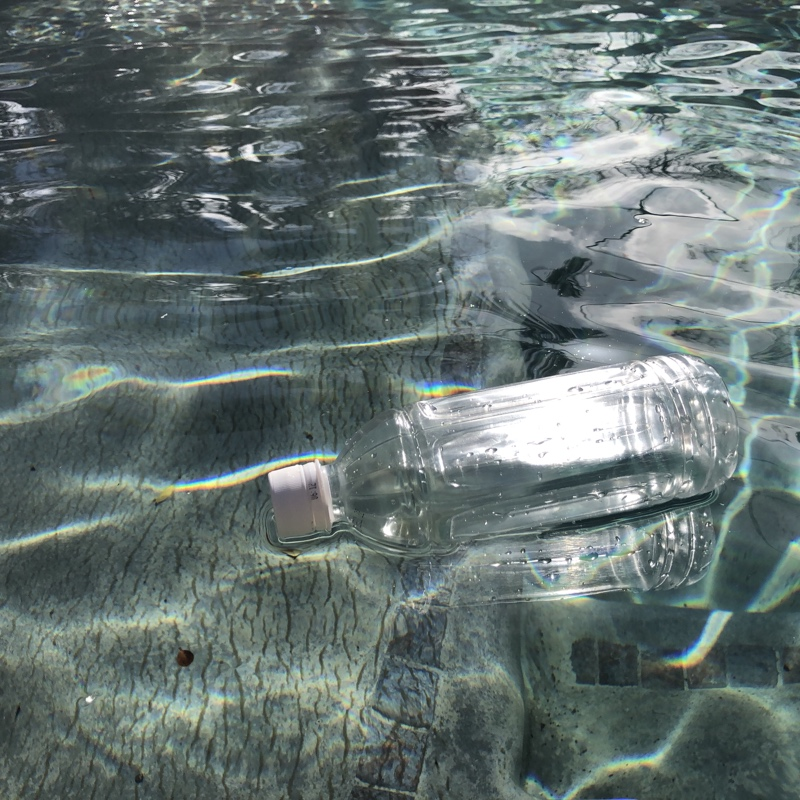Plastic Bottle: (262, 350, 746, 571)
